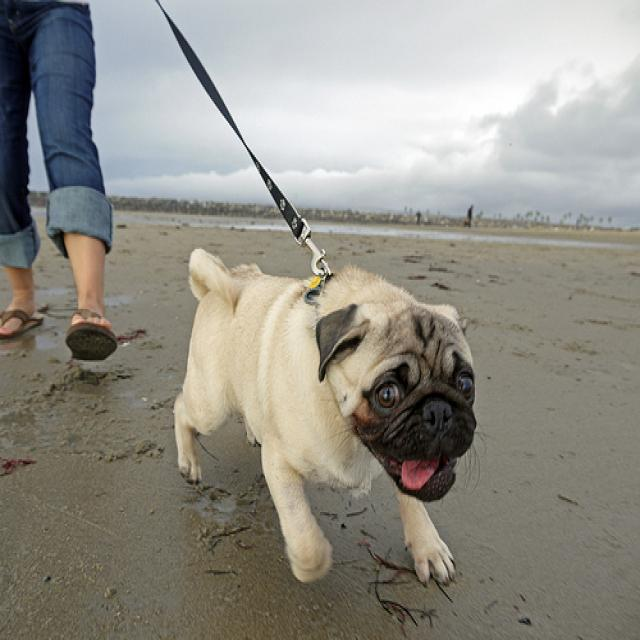dog-pug: (166, 237, 488, 594)
